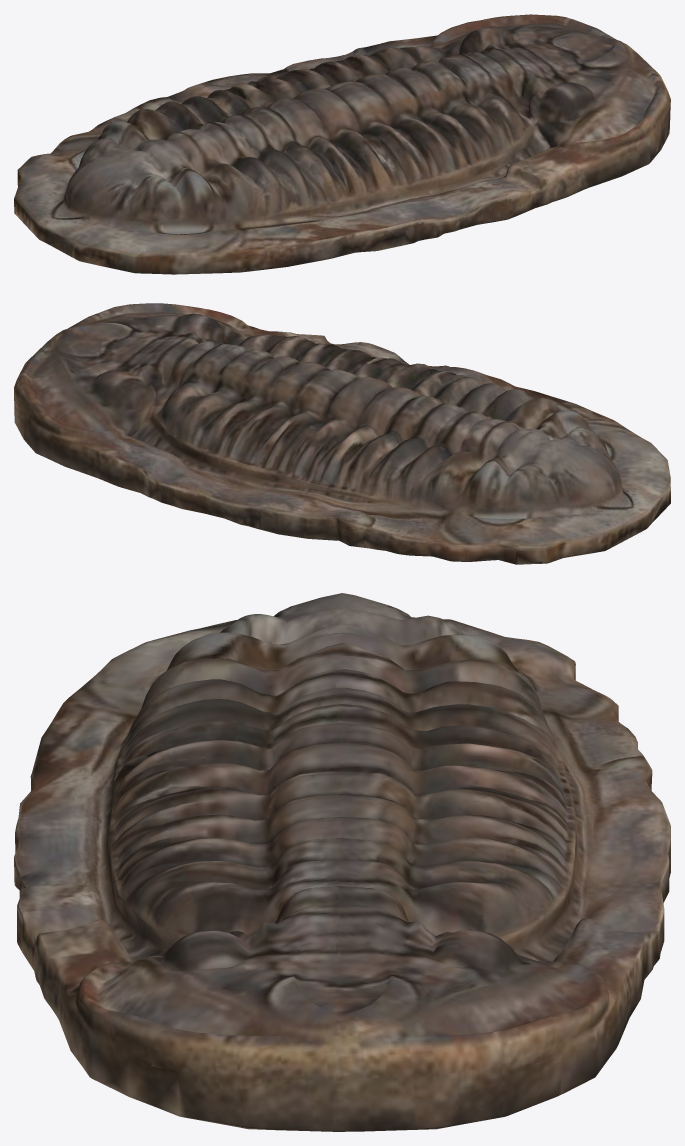
File: trilobite.glb
3 renders of one model, top to bottom at view 1: azimuth 30°, elevation 25°; view 2: azimuth 150°, elevation 25°; view 3: azimuth 270°, elevation 25°, orthographic. The views are drawn at different scales.
Parts seen in each view (by area): view 1: tripo_node_e20295b8-e5d5-48cc-9d5a-9a115c70b912; view 2: tripo_node_e20295b8-e5d5-48cc-9d5a-9a115c70b912; view 3: tripo_node_e20295b8-e5d5-48cc-9d5a-9a115c70b912.
Boxes of the visible parts, bbox=[...] form: tripo_node_e20295b8-e5d5-48cc-9d5a-9a115c70b912: bbox=[14, 14, 670, 274]; tripo_node_e20295b8-e5d5-48cc-9d5a-9a115c70b912: bbox=[14, 303, 670, 564]; tripo_node_e20295b8-e5d5-48cc-9d5a-9a115c70b912: bbox=[14, 593, 670, 1131].
Bounding box in the file's own units: 0.1 × 0.0119 × 0.0563.
1 material, 1 textured.
